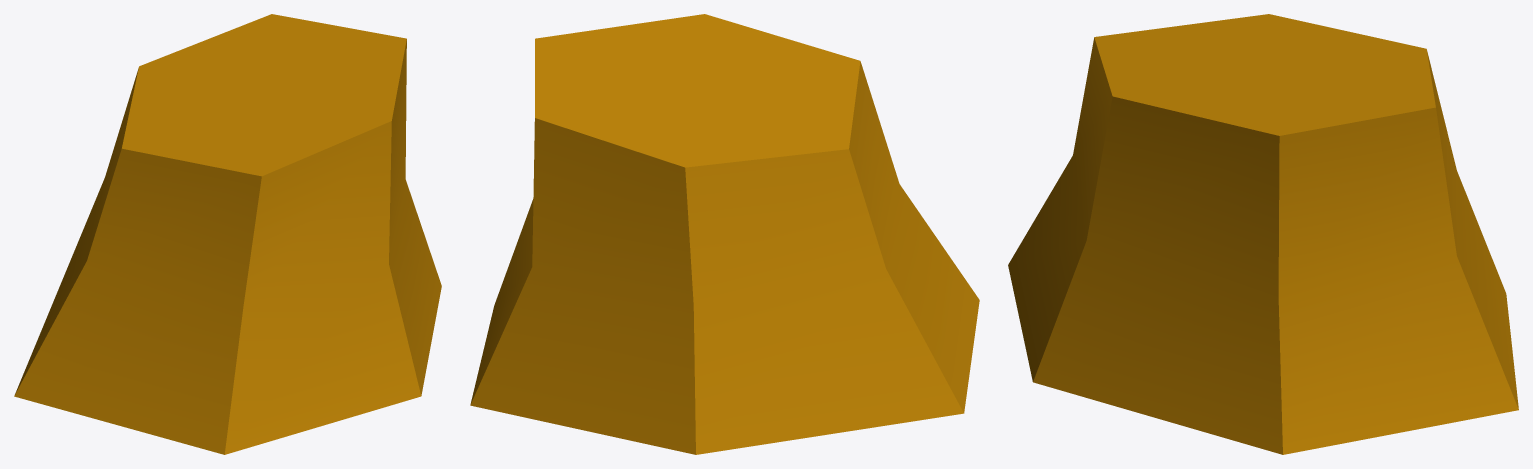
The model's file is Tron_Arbre.FBX.
3 views of the same model, side by side, from view 1: azimuth 30°, elevation 25°; view 2: azimuth 150°, elevation 25°; view 3: azimuth 270°, elevation 25° (orthographic). The views are drawn at different scales.
Parts seen in each view (by area): view 1: Cone002; view 2: Cone002; view 3: Cone002.
Boxes of the visible parts, x1=… form: Cone002: x1=14, y1=14, x2=441, y2=454; Cone002: x1=470, y1=14, x2=979, y2=454; Cone002: x1=1008, y1=14, x2=1518, y2=454.
Size of the model in its own units: 57.84 by 32.81 by 50.92.
